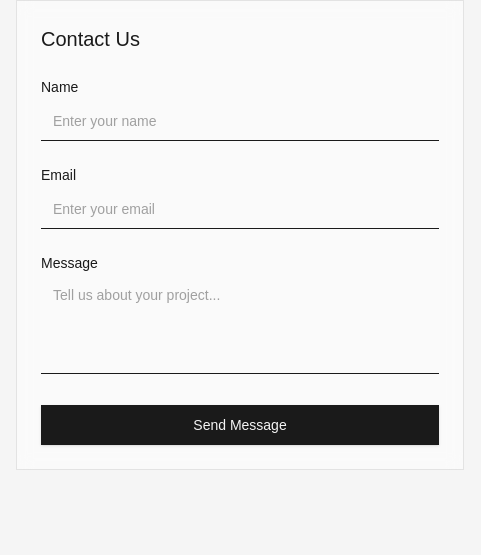
Test: ContactForm › shows success message on successful submission
The image size is (481, 555).
Type "John Doe" into the field labelled "Name" at (240, 121), box left=41, top=101, right=439, bottom=141
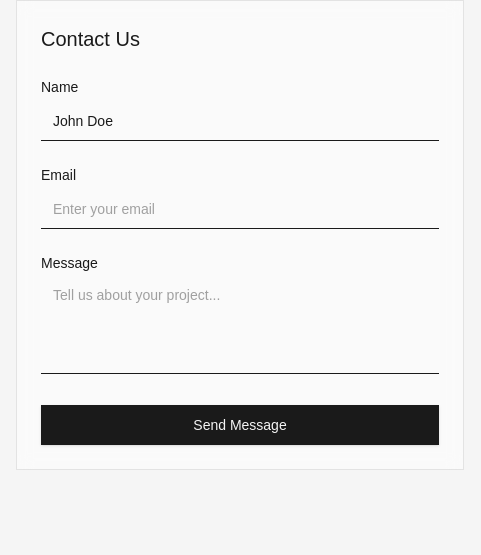
Type "john@example.com" into the field labelled "Email" at (240, 209), box left=41, top=189, right=439, bottom=229
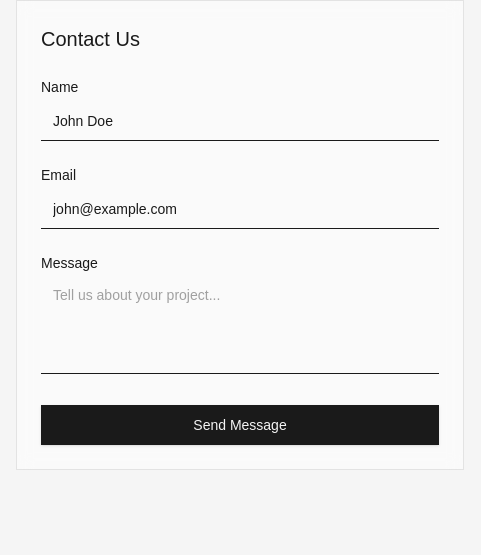
Type "Hello" into the text box labelled "Message" at (240, 326), box left=41, top=277, right=439, bottom=374
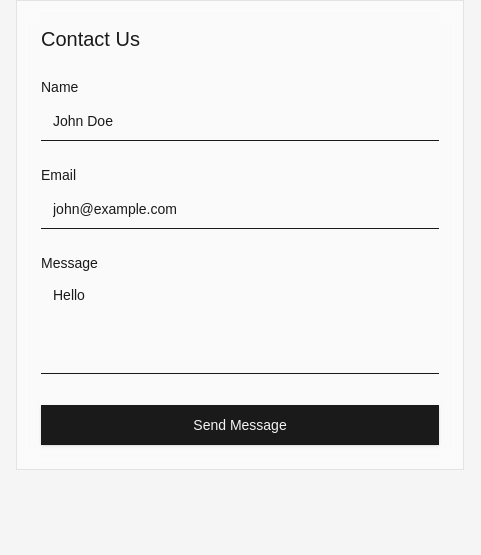
Click the button "Send Message" at (240, 425), box left=41, top=405, right=439, bottom=445
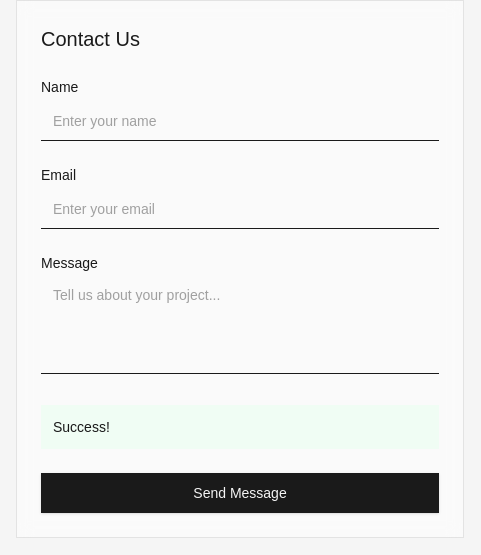
Check: the text "Success!" is shown, box left=41, top=405, right=439, bottom=449
